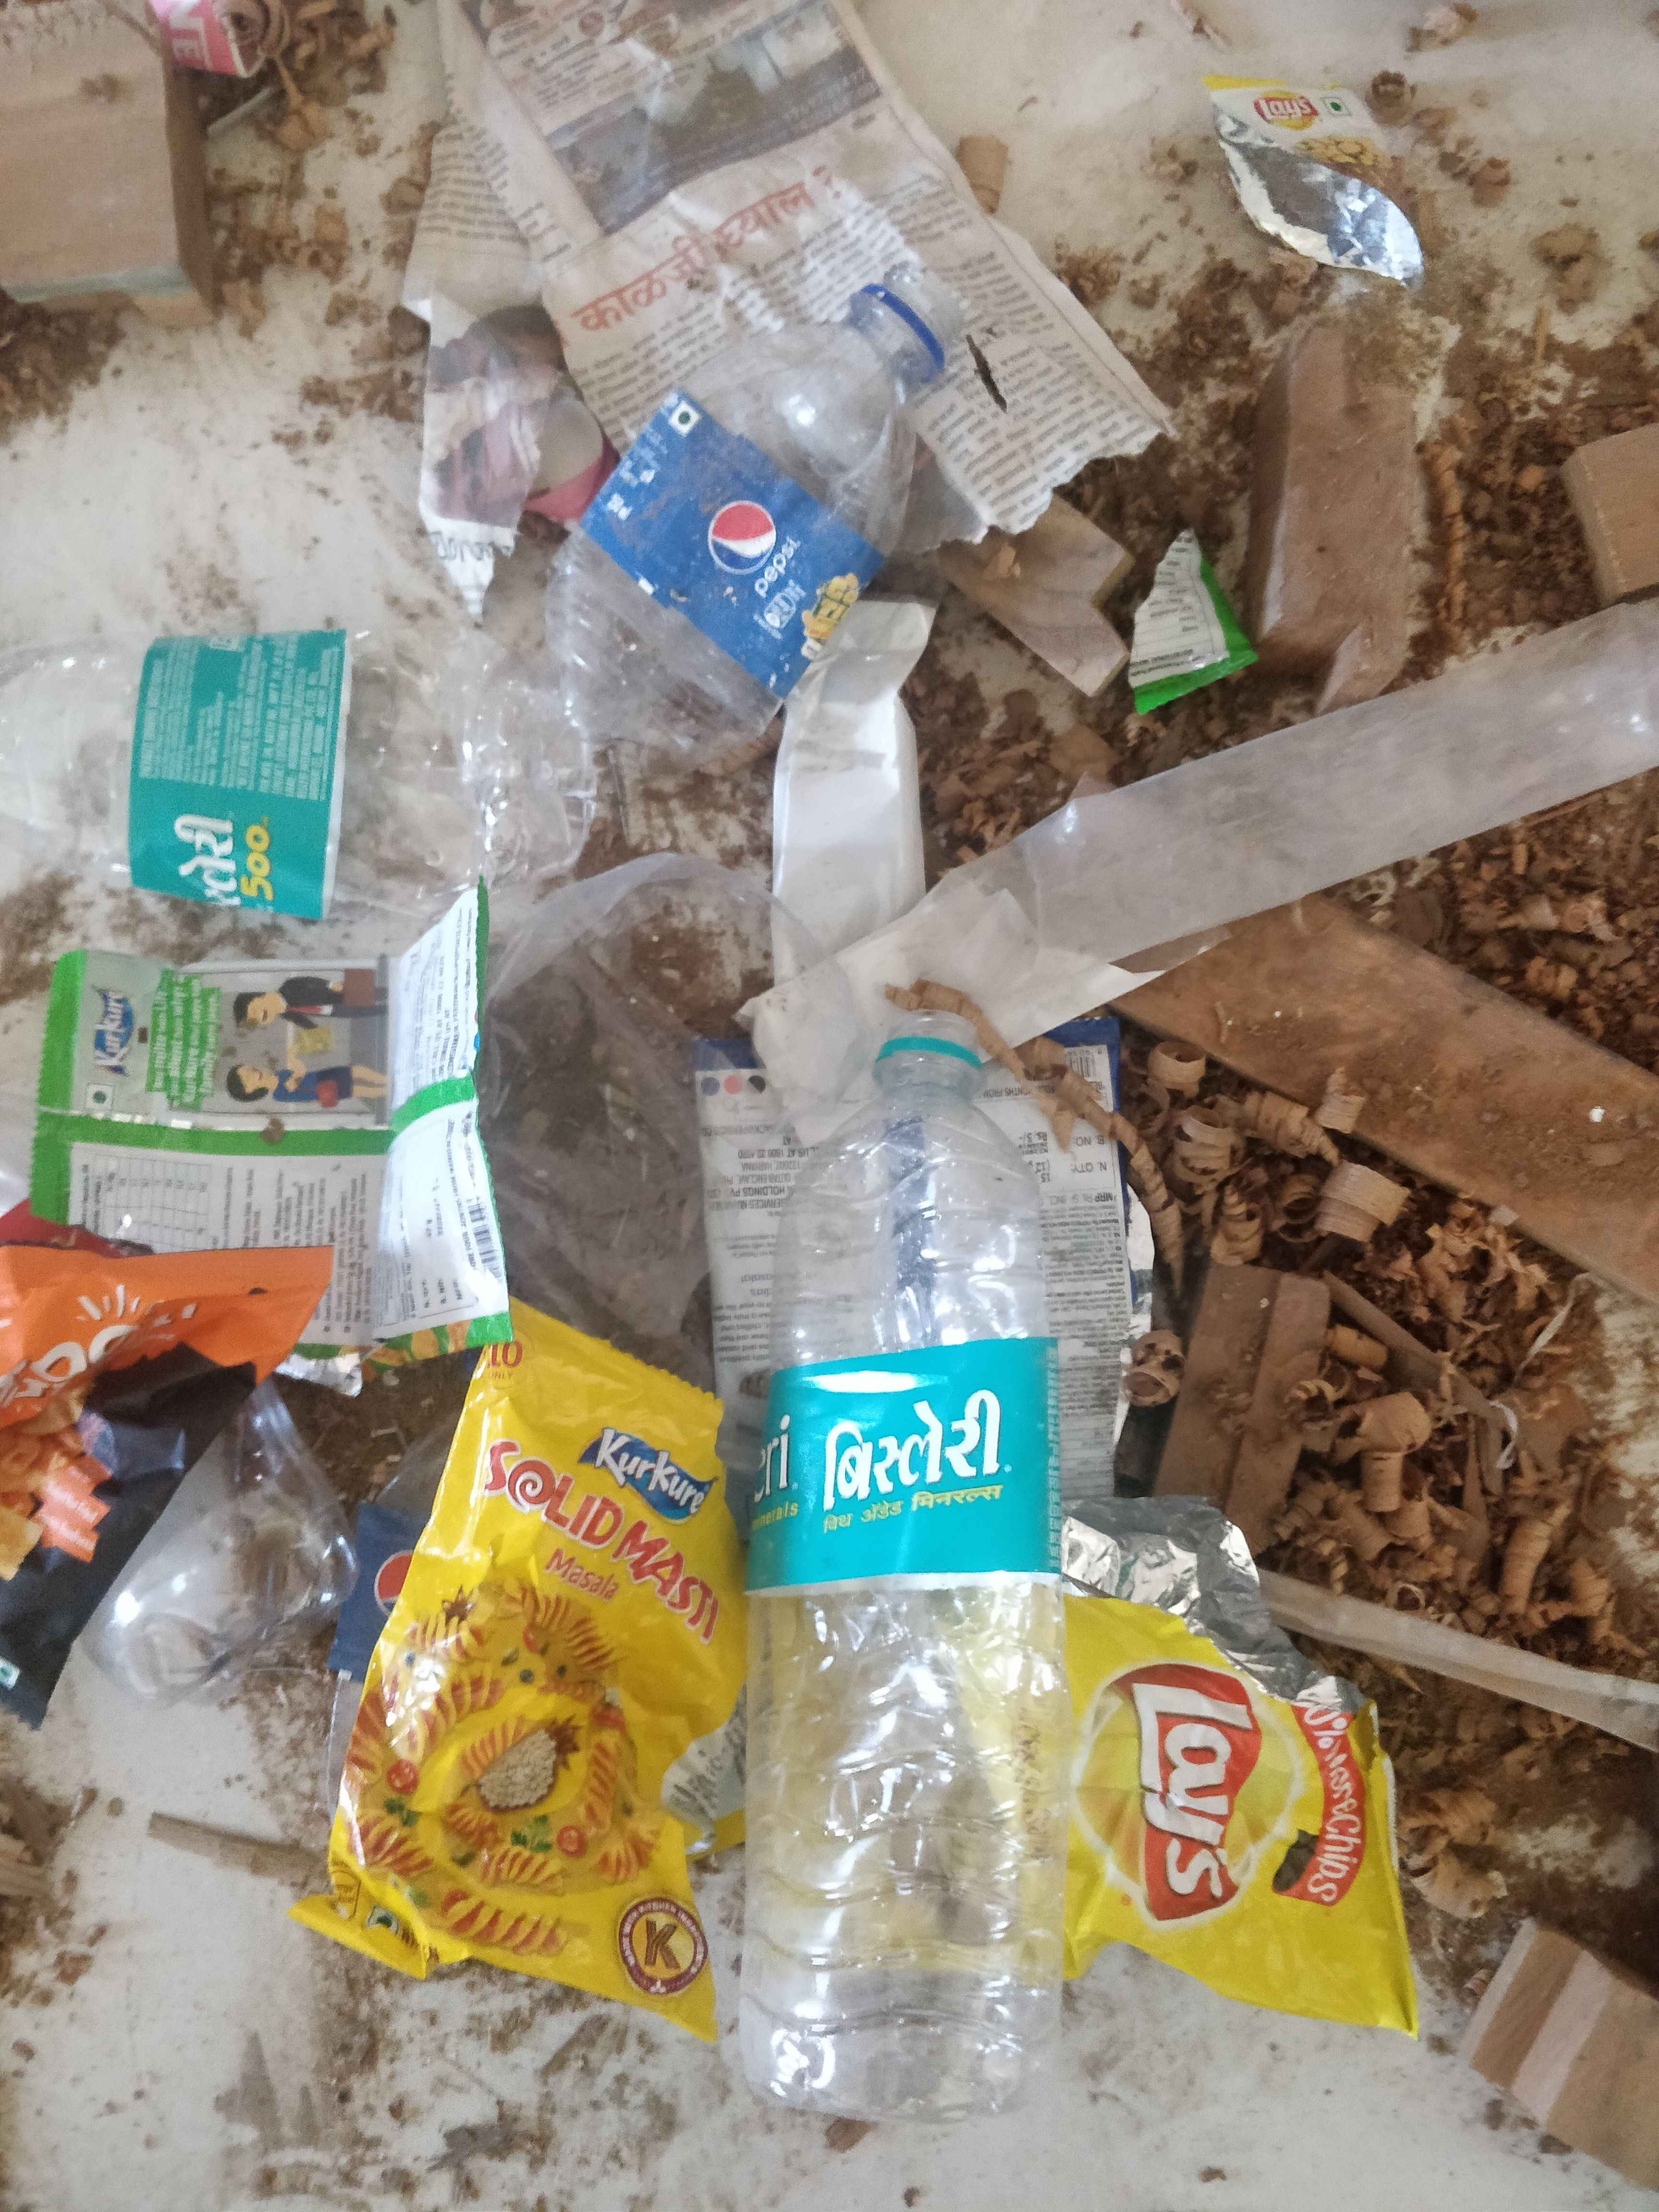Bisleri: (748, 1366, 1053, 1590)
Lays: (1080, 1615, 1309, 1947), (1230, 78, 1358, 153)
kurkure: (586, 1392, 734, 1536)
pepsi: (662, 456, 857, 627), (347, 1536, 432, 1646)
tooyumm: (3, 1261, 220, 1395)
